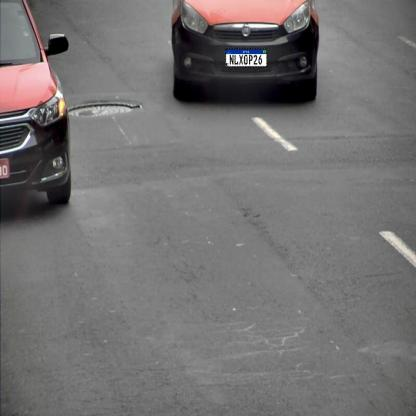PlacaM: (225, 49, 267, 67)
